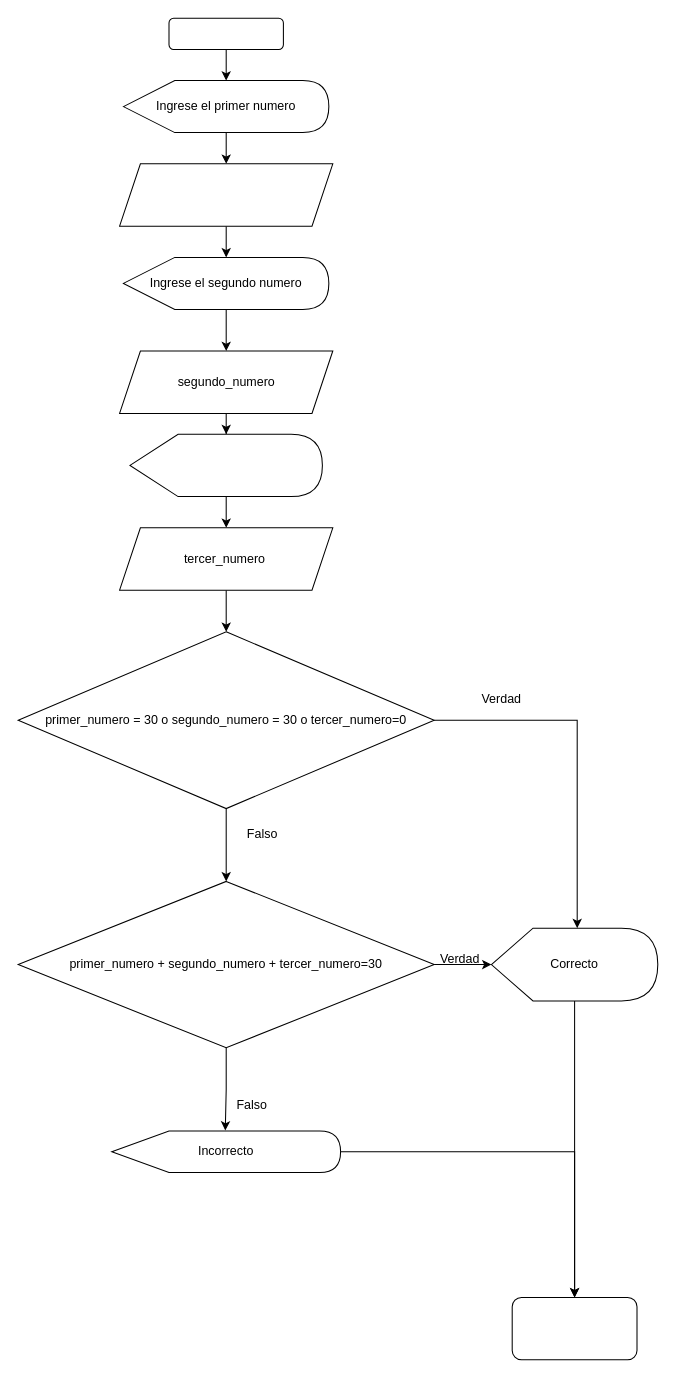
This 676x1378 diagram has some shape labels left out. Here are the shapes that lost their labels. From the top down, the centre of each, then its label:
At point (225, 33): "Inicio".
At point (226, 194): "primer_numero".
At point (225, 465): "Ingrese el tercer numero".
At point (574, 1328): "Fin".
